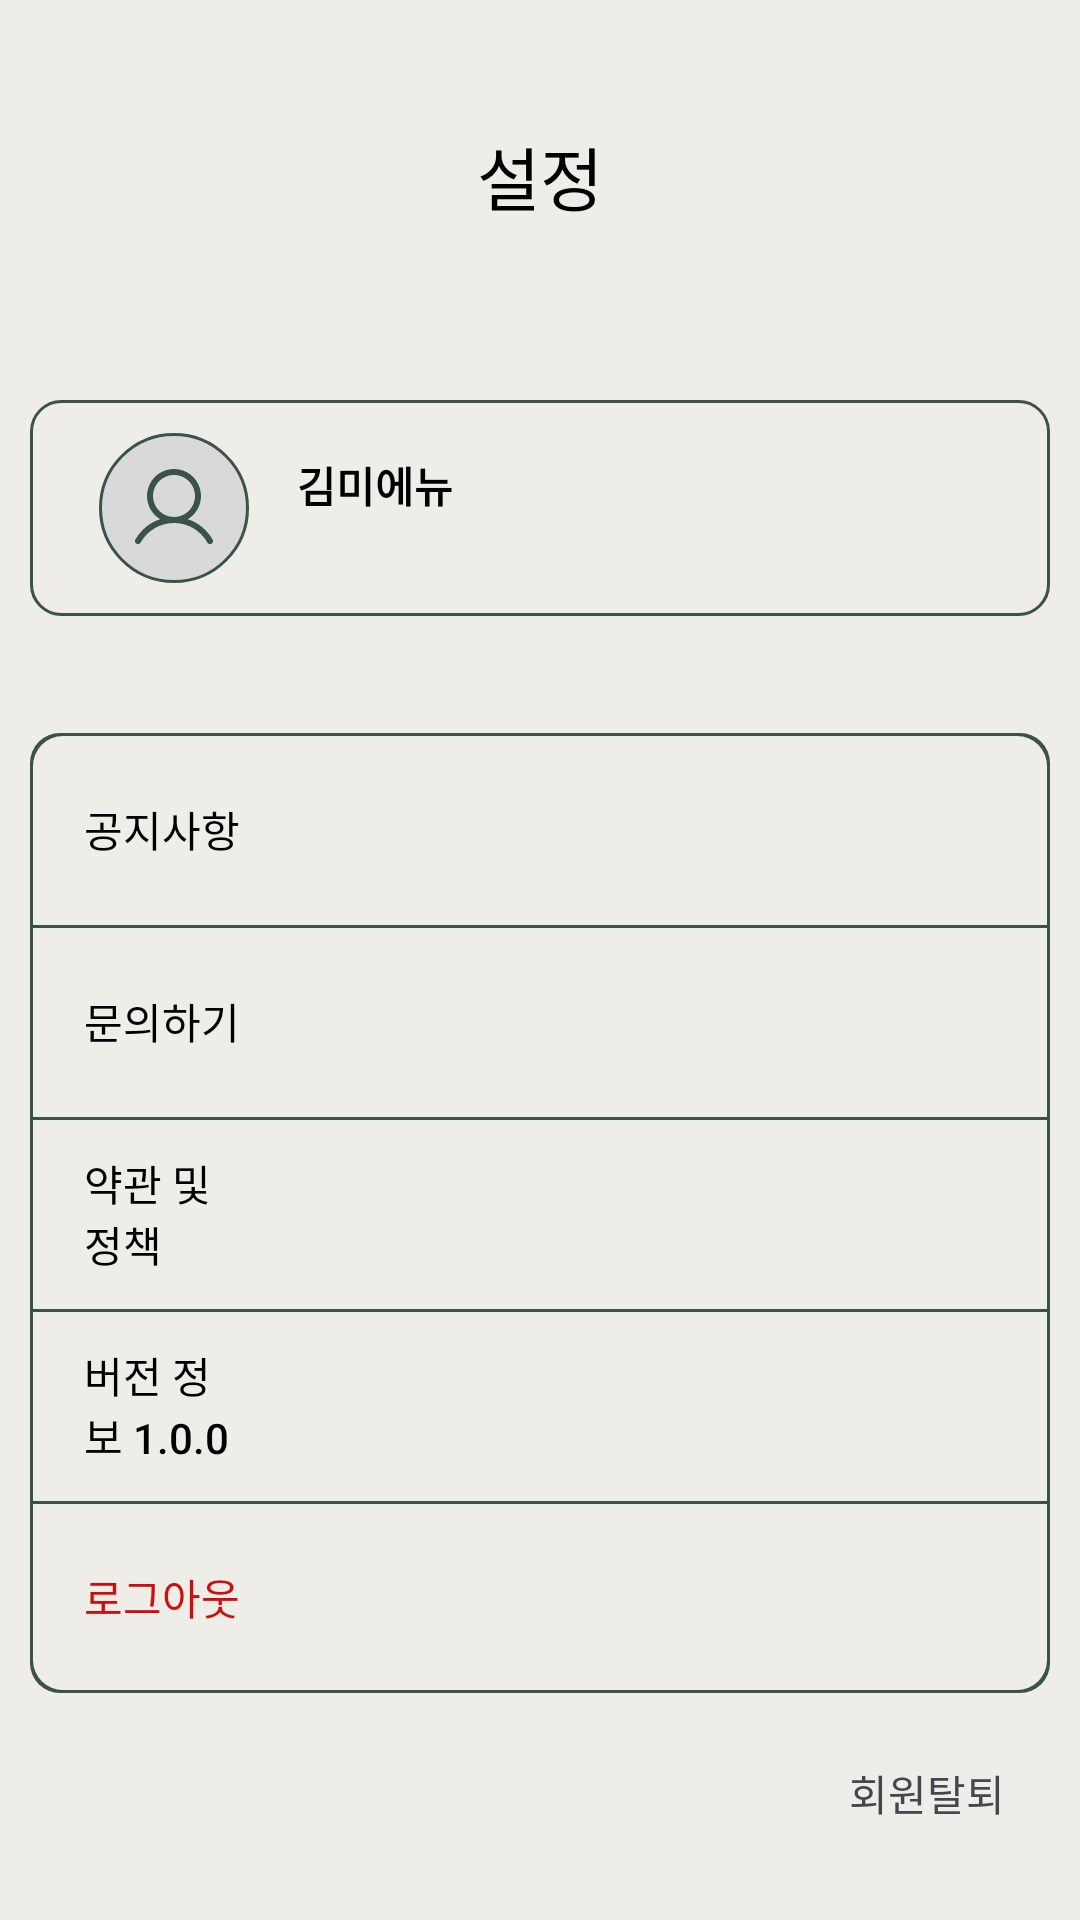

Icon bounding boxes for this 1080px x 1920px phone screenshot, format [x1=x1, y1=y1, x2=x2, y2=y2]:
mypage info profile: [x1=99, y1=433, x2=249, y2=583]
